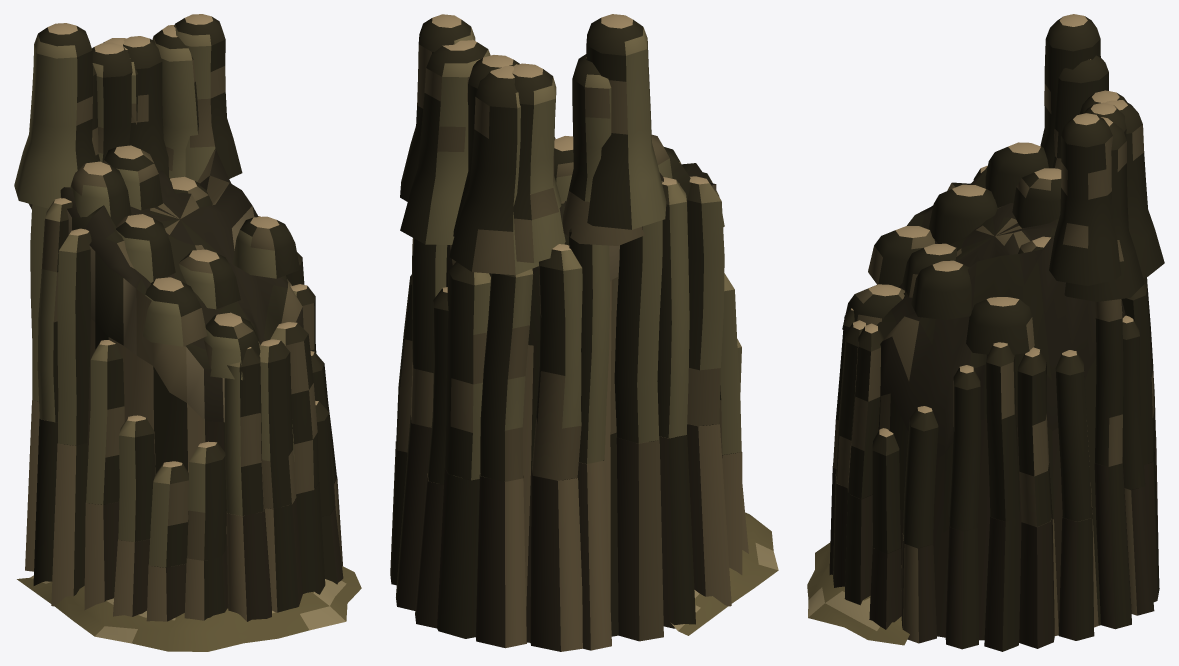
The model's file is ZonTmound04.glb.
3 views of the same model, side by side, from view 1: azimuth 30°, elevation 25°; view 2: azimuth 150°, elevation 25°; view 3: azimuth 270°, elevation 25° (orthographic). The views are drawn at different scales.
Visible parts, largest first — view 1: mound_core; view 2: mound_core; view 3: mound_core.
Boxes of the visible parts, bbox=[...] form: mound_core: bbox=[14, 14, 361, 651]; mound_core: bbox=[390, 14, 778, 651]; mound_core: bbox=[807, 14, 1164, 651].
Bounding box in the file's own units: 3.23 × 5.98 × 3.67.
